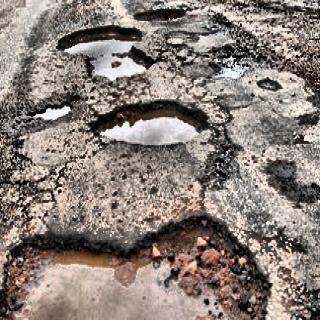alligator-crack: (65, 71, 168, 124)
pothole: (0, 167, 304, 320), (47, 27, 236, 156)
